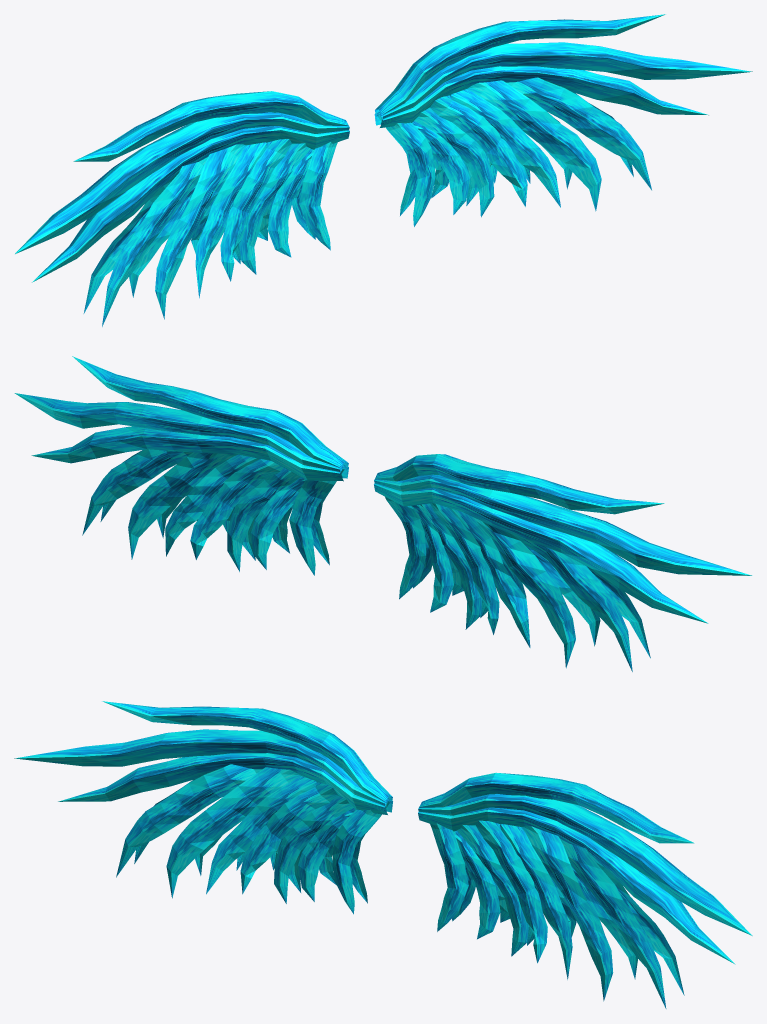
File: mrk7_g3-4-5-6.fbx
The picture shows the model from 3 angles, top to bottom: view 1: azimuth 30°, elevation 25°; view 2: azimuth 150°, elevation 25°; view 3: azimuth 330°, elevation 25°; orthographic projection.
Parts seen in each view (by area): view 1: mrk7_g6_L0_cut, mrk7_g4_L0_cut, mrk7_g3_L0_cut, mrk7_g5_L0_cut; view 2: mrk7_g6_L0_cut, mrk7_g4_L0_cut, mrk7_g3_L0_cut, mrk7_g5_L0_cut; view 3: mrk7_g6_L0_cut, mrk7_g4_L0_cut, mrk7_g3_L0_cut, mrk7_g5_L0_cut.
Part boxes in pixels (left/top/right/bottom): mrk7_g6_L0_cut: left=15, top=14, right=752, bottom=282; mrk7_g4_L0_cut: left=83, top=77, right=651, bottom=326; mrk7_g3_L0_cut: left=233, top=107, right=494, bottom=274; mrk7_g5_L0_cut: left=191, top=89, right=560, bottom=298; mrk7_g6_L0_cut: left=14, top=356, right=752, bottom=623; mrk7_g4_L0_cut: left=82, top=449, right=650, bottom=671; mrk7_g3_L0_cut: left=227, top=468, right=488, bottom=629; mrk7_g5_L0_cut: left=165, top=454, right=536, bottom=647; mrk7_g6_L0_cut: left=14, top=701, right=752, bottom=964; mrk7_g4_L0_cut: left=116, top=764, right=684, bottom=1008; mrk7_g3_L0_cut: left=274, top=794, right=534, bottom=956; mrk7_g5_L0_cut: left=206, top=776, right=576, bottom=979.
Bounding box in the file's own units: 11.68 × 2.8 × 1.12.
